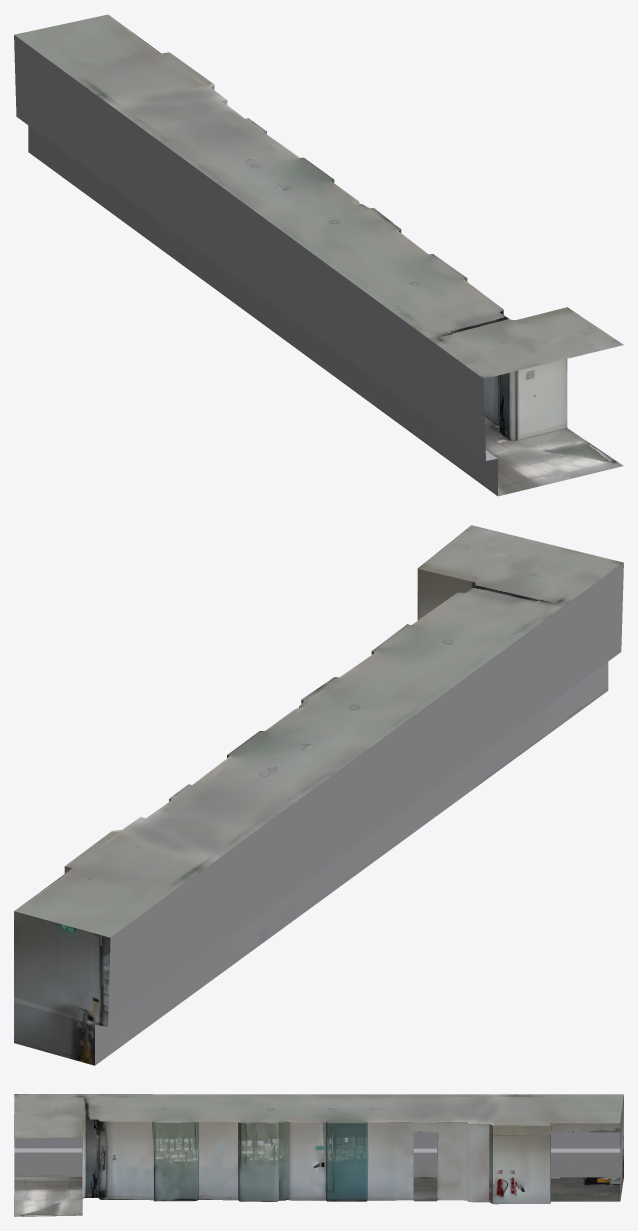
Rendered from 404_sideav4.fbx.
The picture shows the model from 3 angles, top to bottom: view 1: azimuth 30°, elevation 25°; view 2: azimuth 150°, elevation 25°; view 3: azimuth 270°, elevation 25°; orthographic projection. The views are drawn at different scales.
Visible parts, largest first — view 1: 4-sideA-v4; view 2: 4-sideA-v4; view 3: 4-sideA-v4.
Boxes of the visible parts, x1,y1,x2,y2 form: 4-sideA-v4: (14, 14, 623, 496); 4-sideA-v4: (14, 525, 623, 1065); 4-sideA-v4: (14, 1094, 623, 1216).
Bounding box in the file's own units: 294 × 242 × 1708.
1 material, 1 textured.
